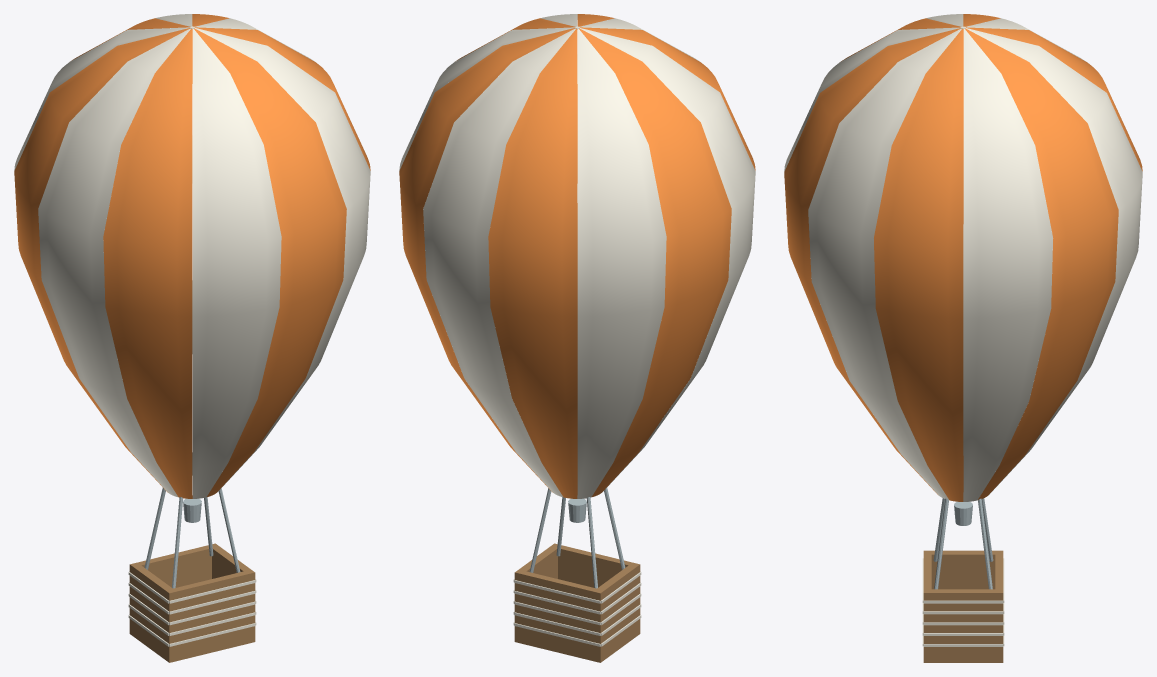
Rendered from air-land-sea-vehicles-hot-air-balloon-a4fd2922__20023.glb.
3 views of the same model, side by side, from view 1: azimuth 30°, elevation 25°; view 2: azimuth 150°, elevation 25°; view 3: azimuth 270°, elevation 25° (orthographic).
Visible parts, largest first — view 1: hot-air-balloon; view 2: hot-air-balloon; view 3: hot-air-balloon.
Part boxes in pixels (left/top/right/bottom): hot-air-balloon: left=14, top=14, right=370, bottom=662; hot-air-balloon: left=399, top=14, right=755, bottom=662; hot-air-balloon: left=784, top=14, right=1142, bottom=662.
Bounding box in the file's own units: 4.5 × 8.5 × 4.5.
